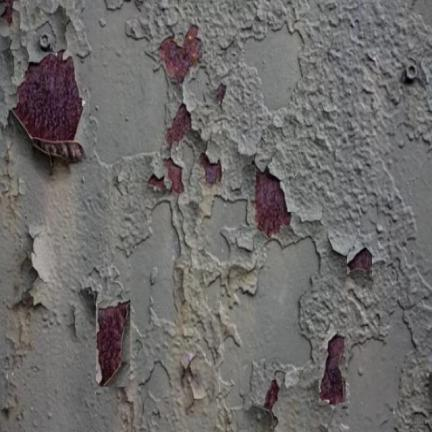karat: (13, 54, 84, 164), (97, 302, 129, 386), (254, 169, 290, 237), (160, 26, 201, 84)
